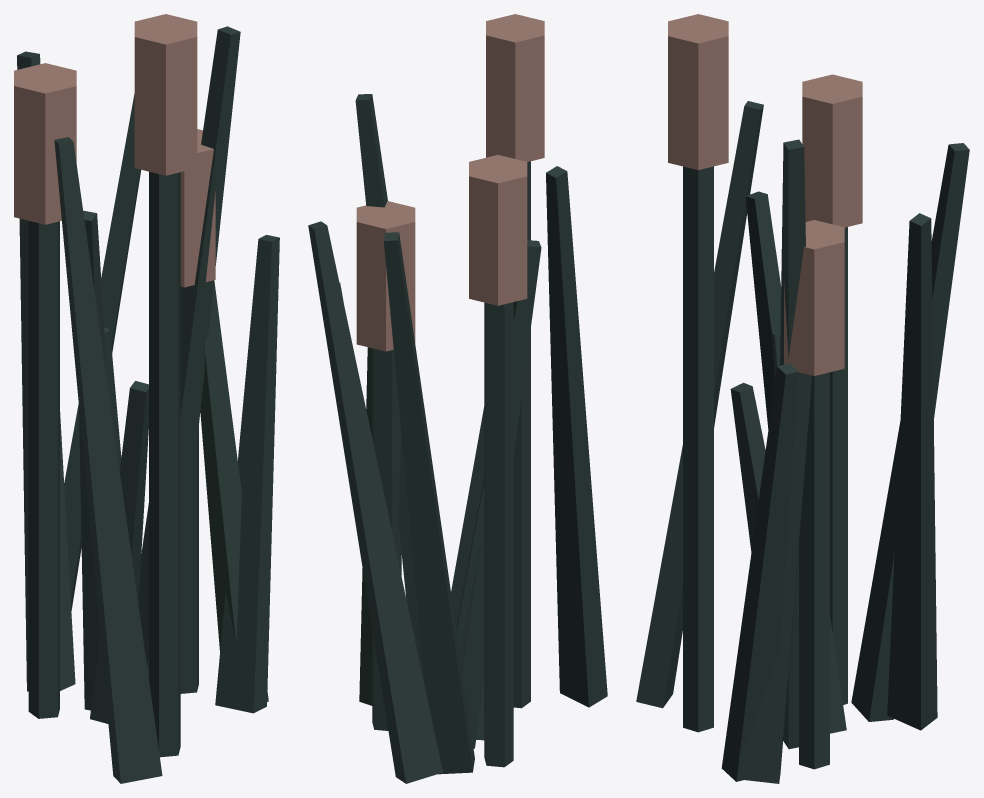
The model's file is reeds.glb.
The picture shows the model from 3 angles, left to right: view 1: azimuth 30°, elevation 25°; view 2: azimuth 150°, elevation 25°; view 3: azimuth 270°, elevation 25°; orthographic projection. The views are drawn at different scales.
Visible parts, largest first — view 1: Reeds, Heads; view 2: Reeds, Heads; view 3: Reeds, Heads.
Part boxes in pixels (x1,y1,x2,y2): Reeds: (17, 26, 279, 783); Heads: (14, 14, 215, 287); Reeds: (308, 94, 607, 783); Heads: (356, 14, 544, 351); Reeds: (636, 101, 969, 783); Heads: (668, 14, 862, 375).
Size of the model in its own units: 0.5785 by 1.65 by 0.716.
